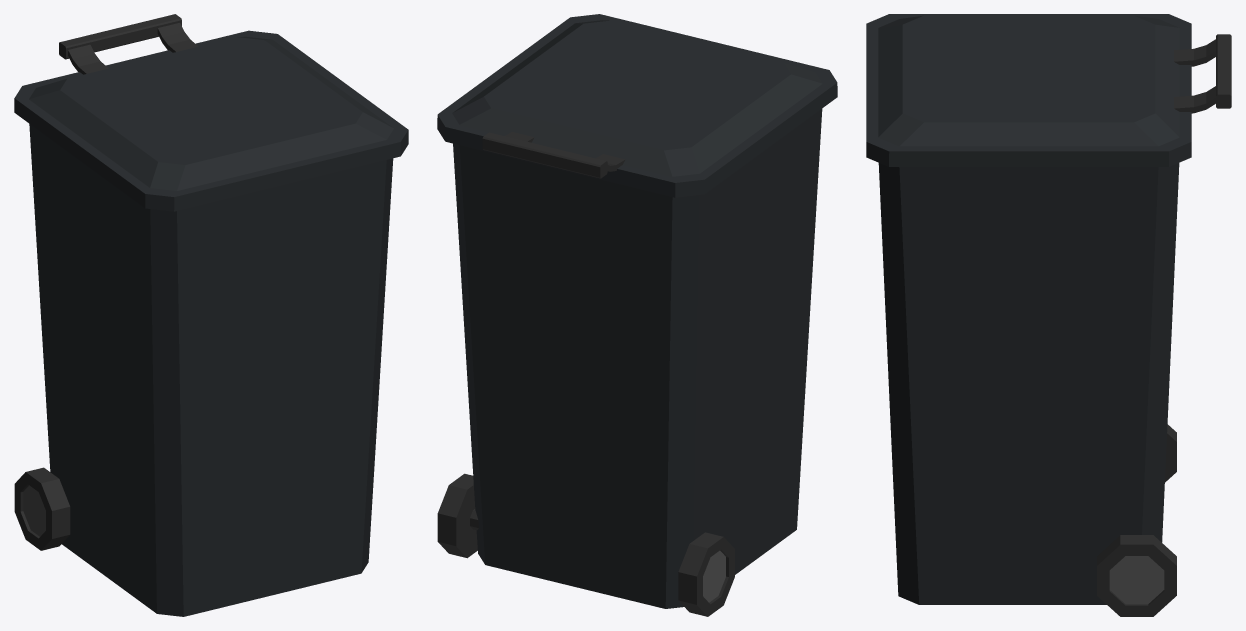
Rendered from Trash_03.fbx.
The picture shows the model from 3 angles, left to right: view 1: azimuth 30°, elevation 25°; view 2: azimuth 150°, elevation 25°; view 3: azimuth 270°, elevation 25°; orthographic projection. The views are drawn at different scales.
Visible parts, largest first — view 1: Trash_03; view 2: Trash_03; view 3: Trash_03.
Part boxes in pixels (x1,y1,x2,y2): Trash_03: (14,14,408,616); Trash_03: (437,14,837,616); Trash_03: (866,14,1231,616).
Bounding box in the file's own units: 71.73 × 118 × 80.53.
